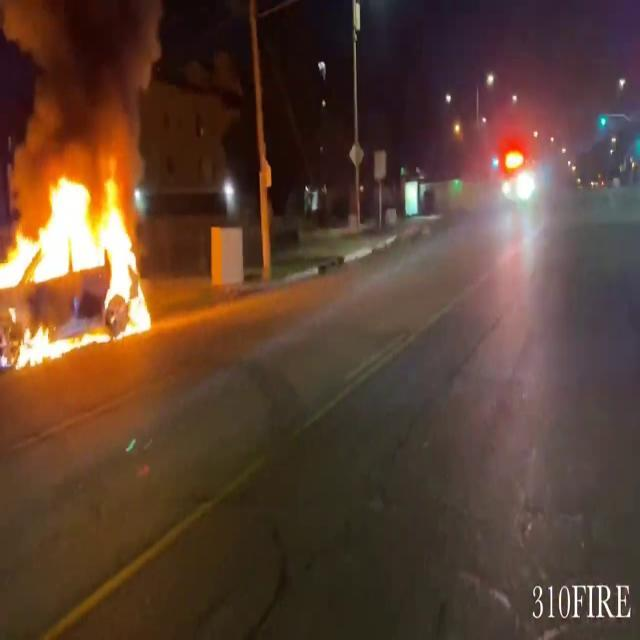Fire: (0, 159, 160, 362)
Smoke: (0, 0, 172, 180)
